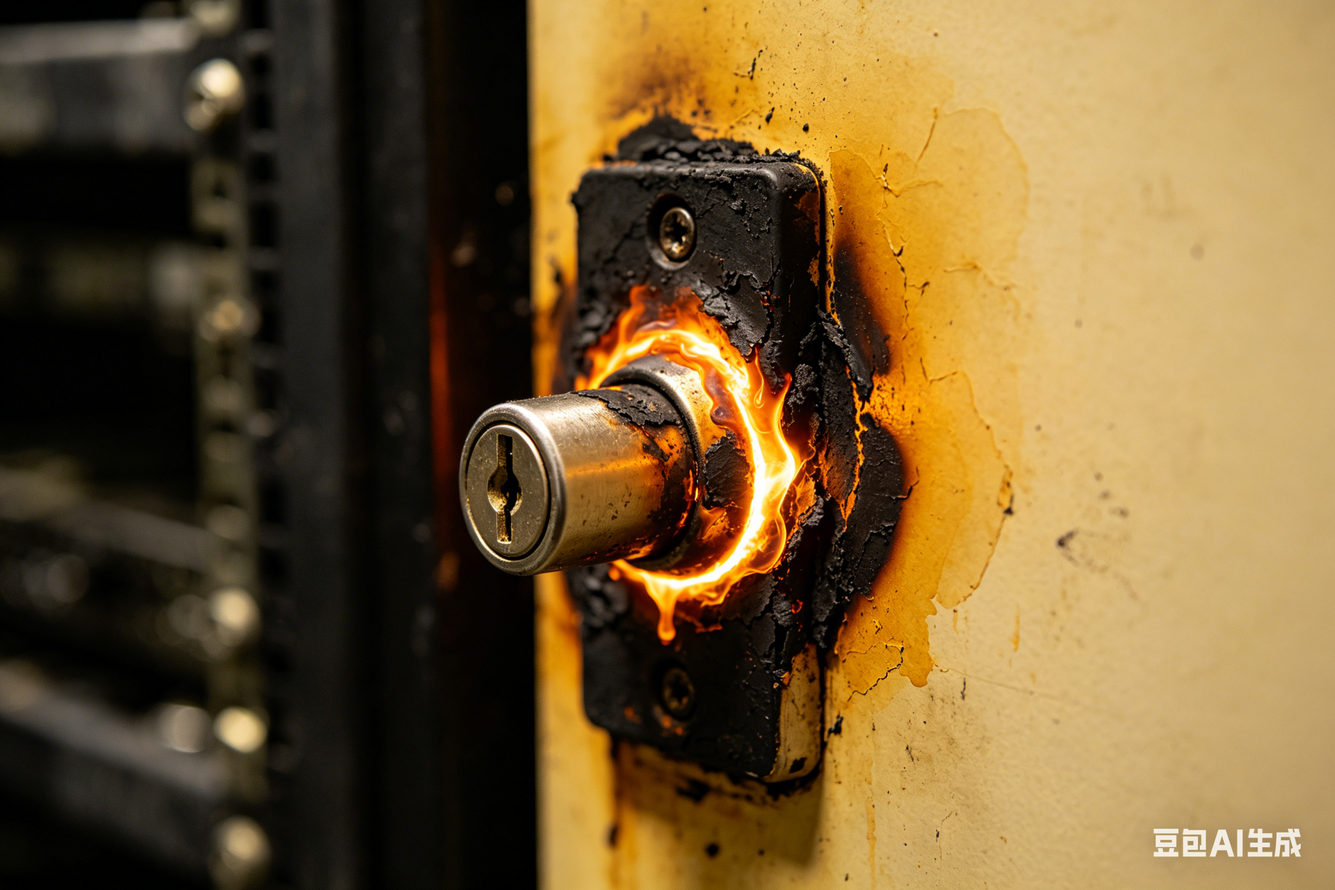BadLock: (576, 311, 791, 620)
